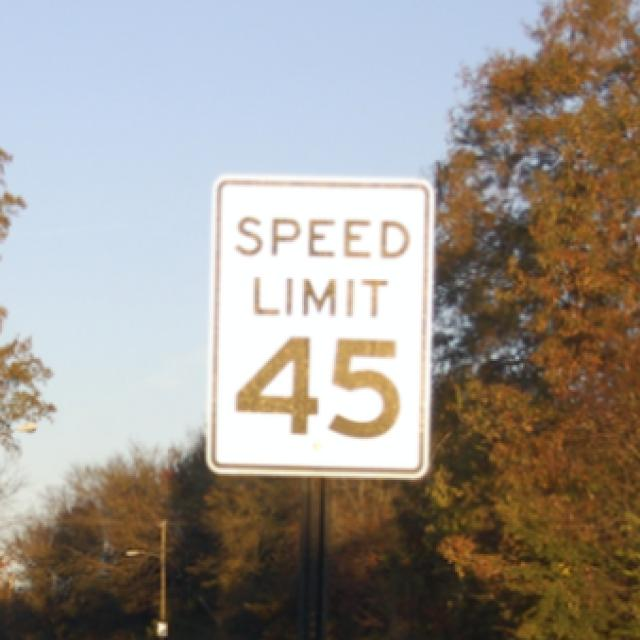speedLimit45: (212, 190, 428, 466)
